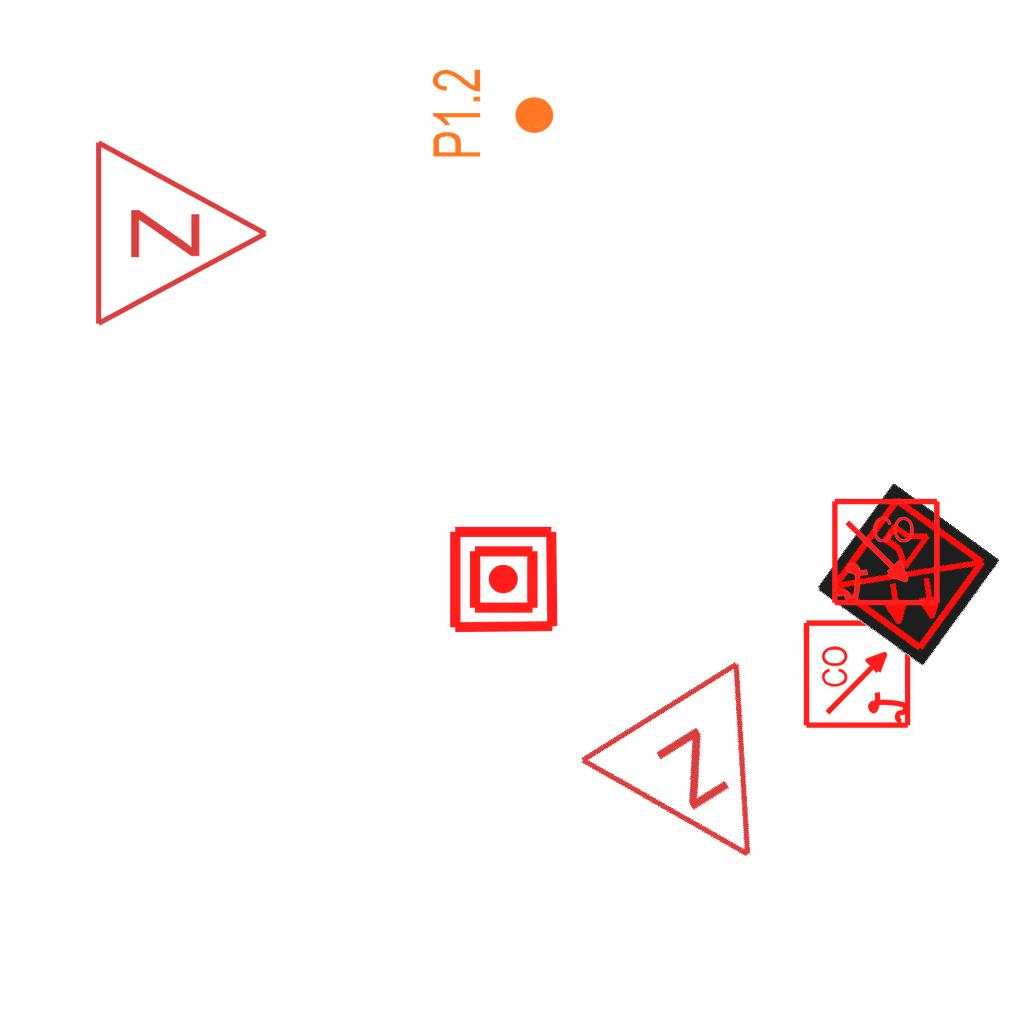Downlight_LED_Einbauleuchten_Flur: (429, 67, 557, 160)
NAM-Nichtautomatischer_Melder: (447, 523, 560, 636)
OKW_Multisensormelder_(Kombination_optischer_Rauch-Kahlenmonoxid_Waerme-Melder): (815, 482, 1001, 668)
ROA_Rauchmelder_optisch_mit_Signalgeber_(Sockelsirene): (802, 617, 915, 730), (830, 497, 943, 610)
Zimmersignalleuchte: (568, 644, 842, 918), (81, 133, 281, 329)
